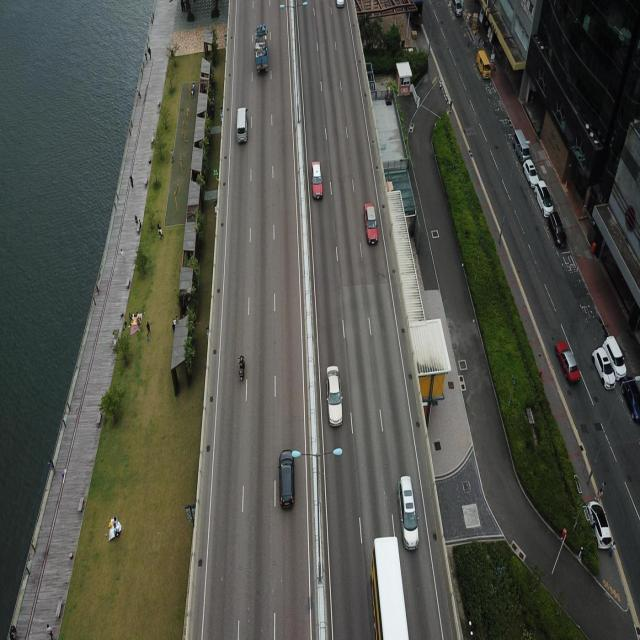p3rson: (596, 475, 608, 496), (46, 459, 56, 480), (5, 624, 18, 638), (45, 622, 54, 638), (609, 537, 615, 559), (133, 86, 141, 102), (146, 42, 152, 62), (169, 145, 175, 164), (128, 172, 135, 188), (158, 224, 164, 240), (112, 523, 119, 536), (109, 514, 118, 524), (136, 216, 142, 229), (145, 318, 150, 332), (438, 80, 442, 94), (120, 246, 124, 259)
